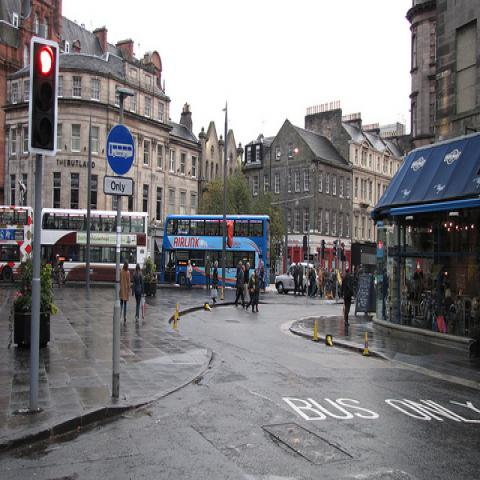bus: (40, 203, 148, 278), (161, 215, 270, 289), (1, 206, 35, 284)
car: (274, 262, 318, 296)
